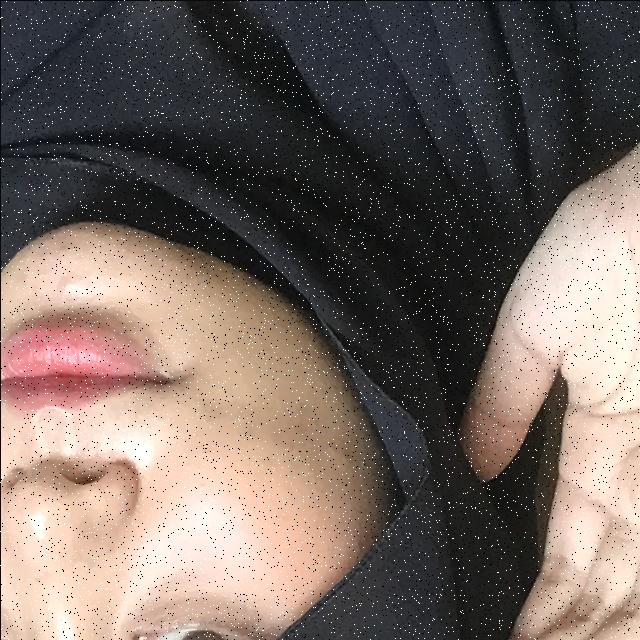mendengar: (400, 164, 640, 640)
